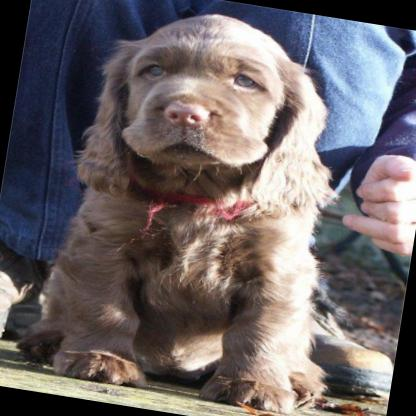Sussex_spaniel: (6, 0, 382, 416)
